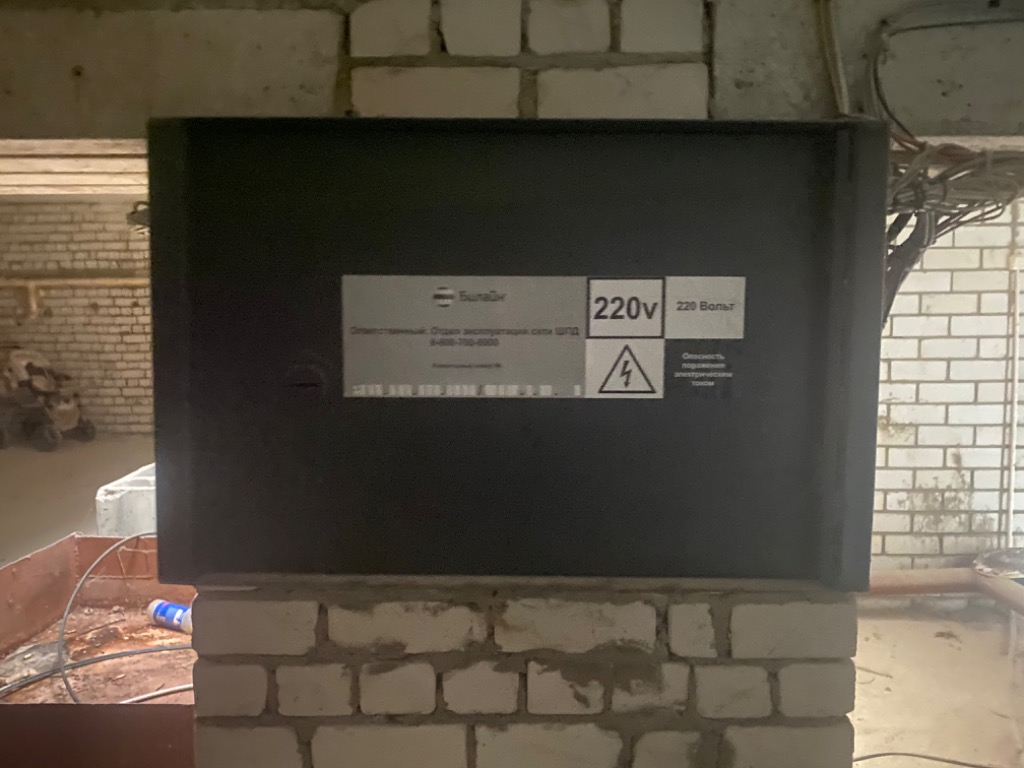e2-6u: (142, 112, 896, 602)
